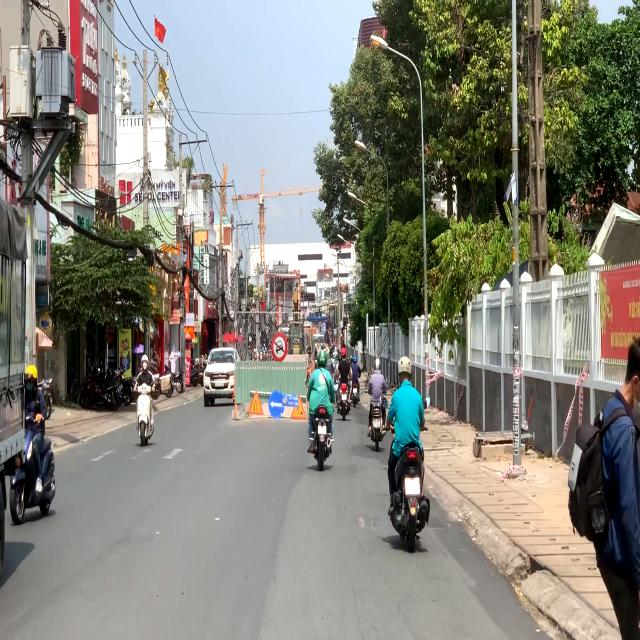P.103a: (271, 332, 288, 362)
R.301c: (268, 391, 285, 419)
W.203b: (248, 390, 264, 416)
W.227: (291, 395, 306, 419)
